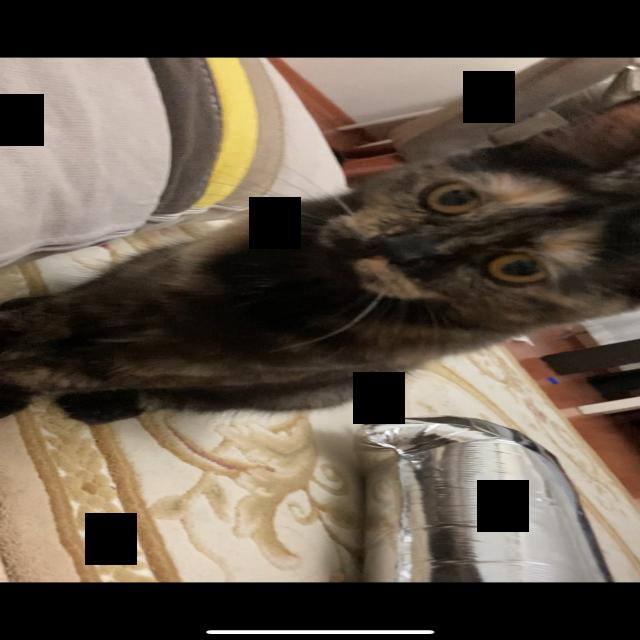authorized: (1, 138, 638, 426)
